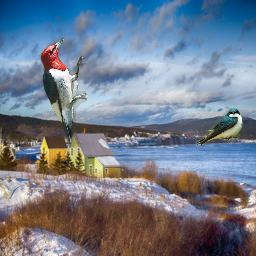Swallow: (195, 108, 243, 145)
Woodpecker: (40, 37, 87, 148)
